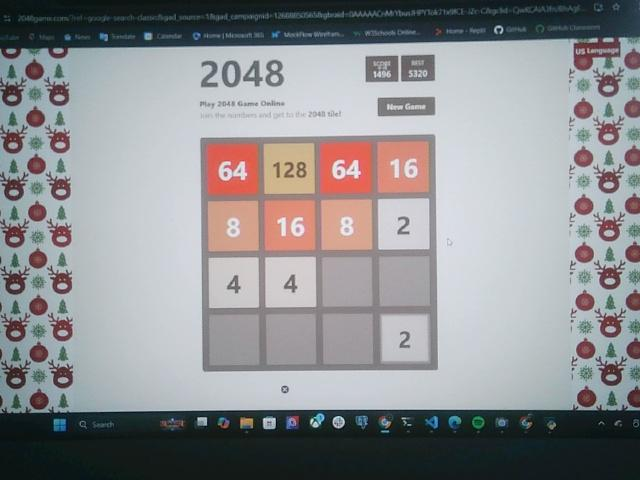board: (202, 137, 437, 370)
tile: (321, 142, 373, 194), (321, 199, 373, 250), (208, 143, 259, 194), (266, 201, 317, 252), (209, 258, 260, 309), (379, 199, 429, 251), (265, 144, 315, 195), (378, 142, 428, 193), (208, 201, 259, 251), (266, 257, 317, 307), (382, 315, 429, 362)
